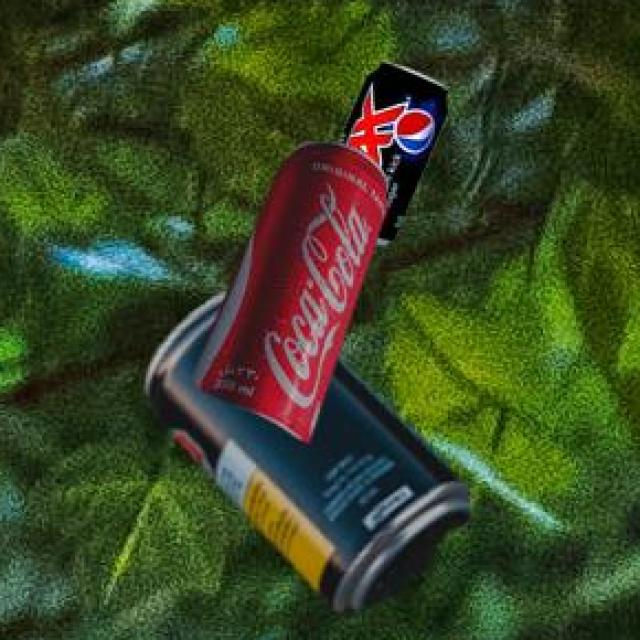logam: (142, 290, 467, 610), (186, 138, 385, 438), (337, 58, 445, 242)
